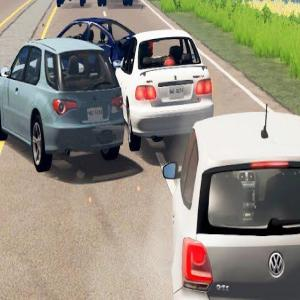moderate: (0, 4, 220, 175)
